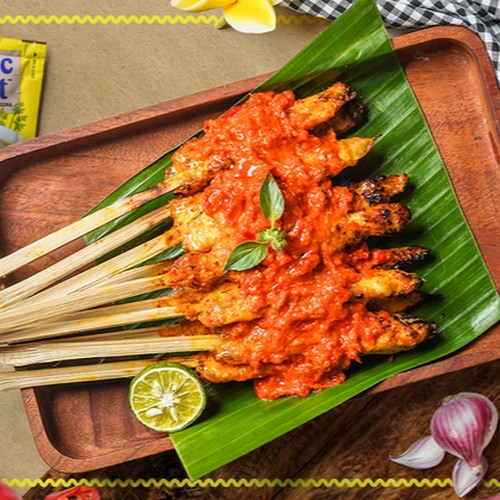sate plecing: (205, 86, 435, 408)
